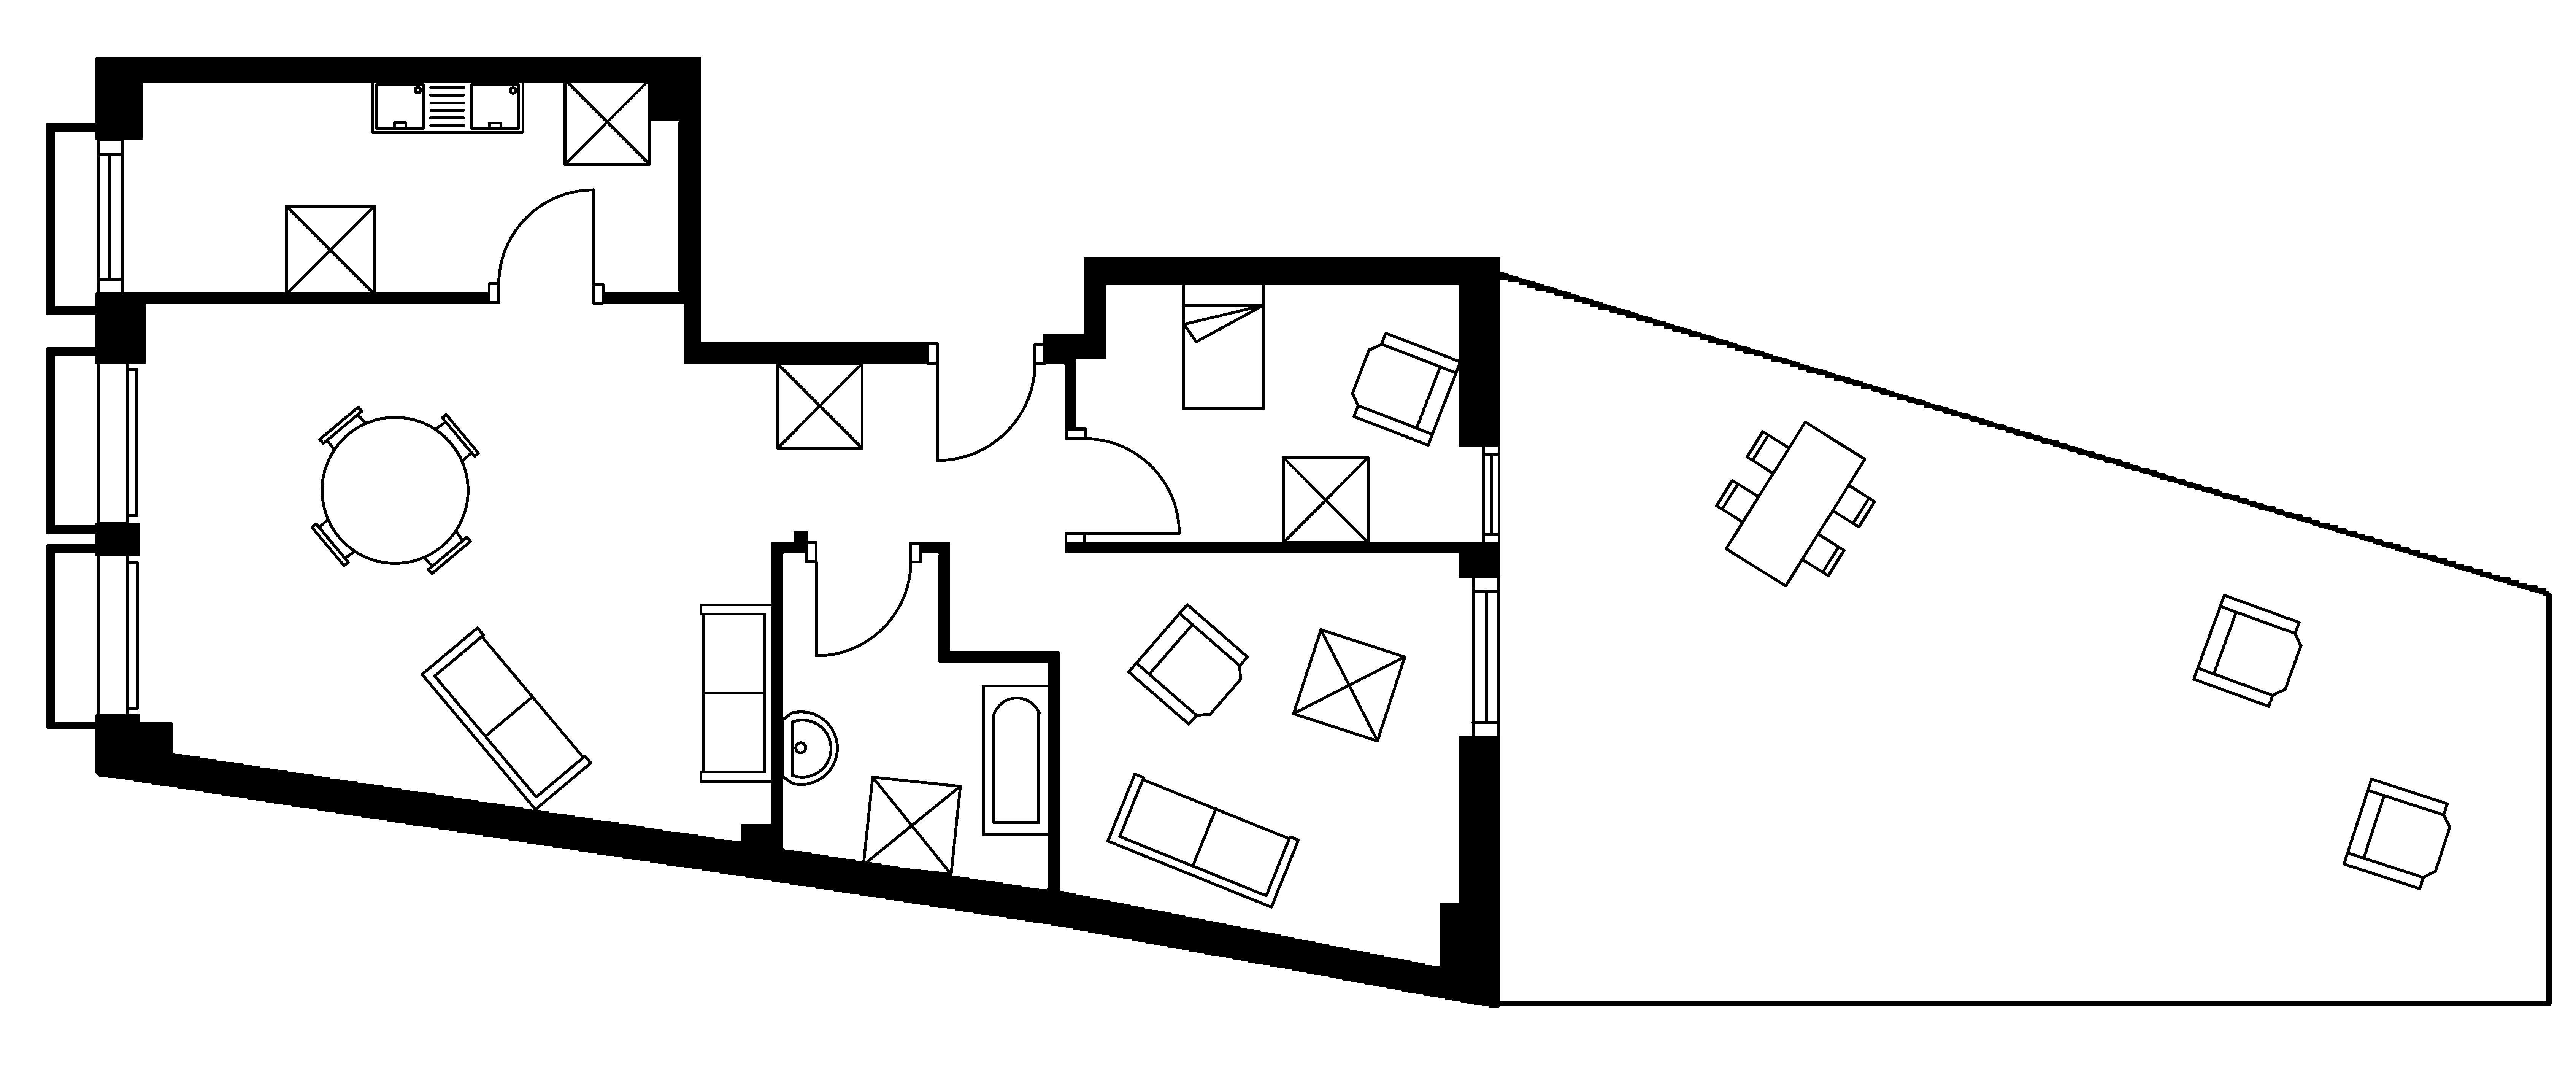armchair: (1127, 602, 1249, 727), (1350, 331, 1462, 447), (2192, 594, 2303, 709), (2341, 778, 2451, 890)
bed: (1181, 281, 1265, 411)
coffee_table: (1291, 627, 1406, 743), (861, 775, 963, 877), (284, 204, 376, 296), (562, 77, 651, 166), (775, 362, 864, 451), (1281, 456, 1370, 544)
dining_table: (1715, 419, 1876, 587)
large_sofa: (421, 625, 593, 811), (1106, 771, 1299, 909), (698, 604, 774, 783)
round_table: (309, 405, 480, 576)
small_sink: (780, 710, 838, 786)
tub: (981, 684, 1051, 837)
twin_sink: (370, 77, 524, 133)
